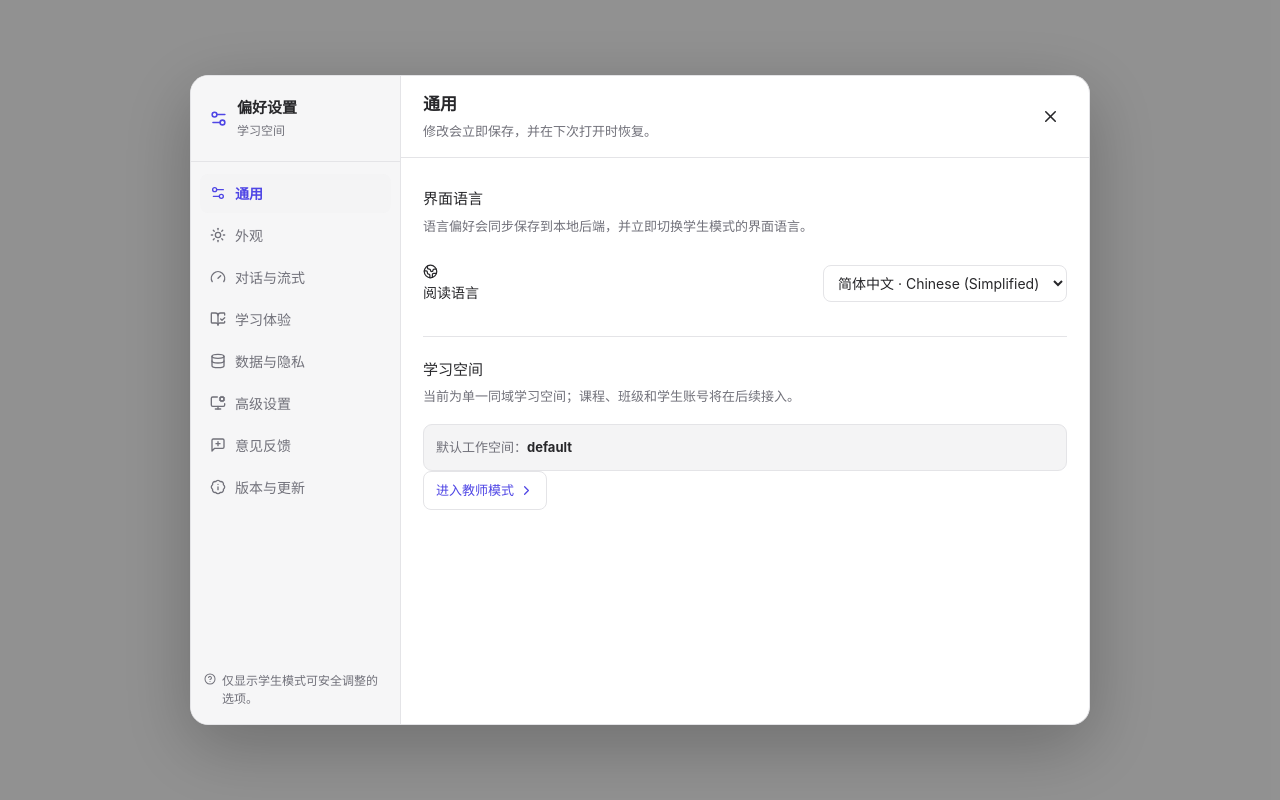
Test: SettingsDialog › persists submitted feedback before reporting success
Click the button "意见反馈" at [296, 445], box [200,426,391,464]
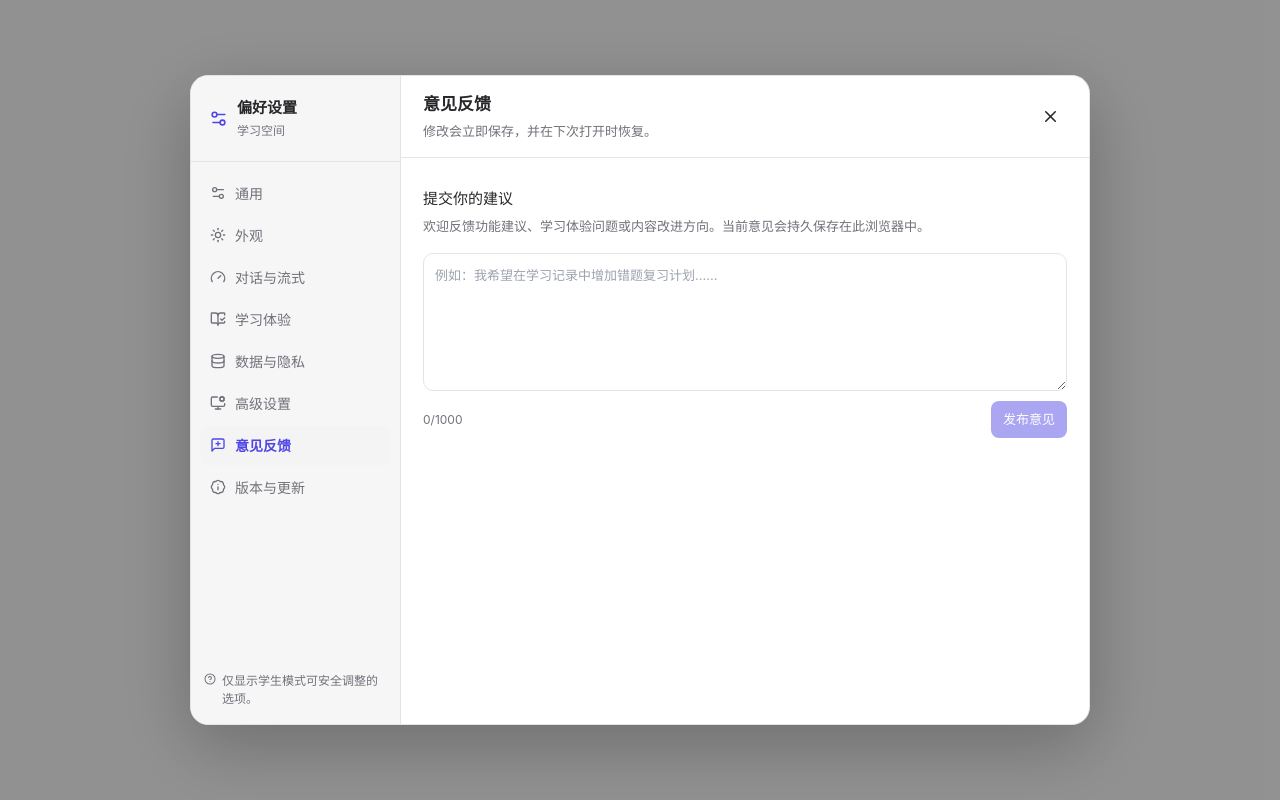
Type "请增加错题计划" into the text box with placeholder "例如：我希望在学习记录中增加错题复习计划……" at [745, 322], box [423,253,1067,391]
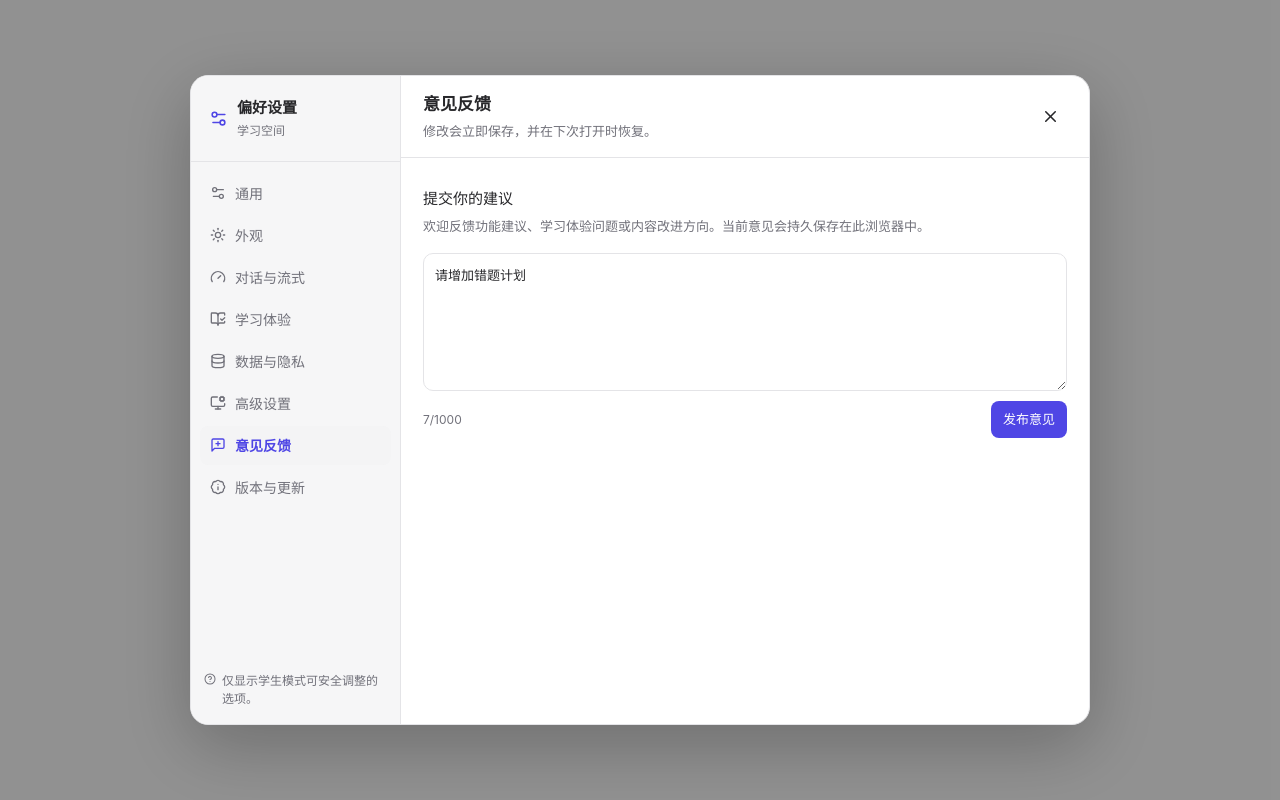
Click the button "发布意见" at [1029, 420], box [991,401,1067,438]
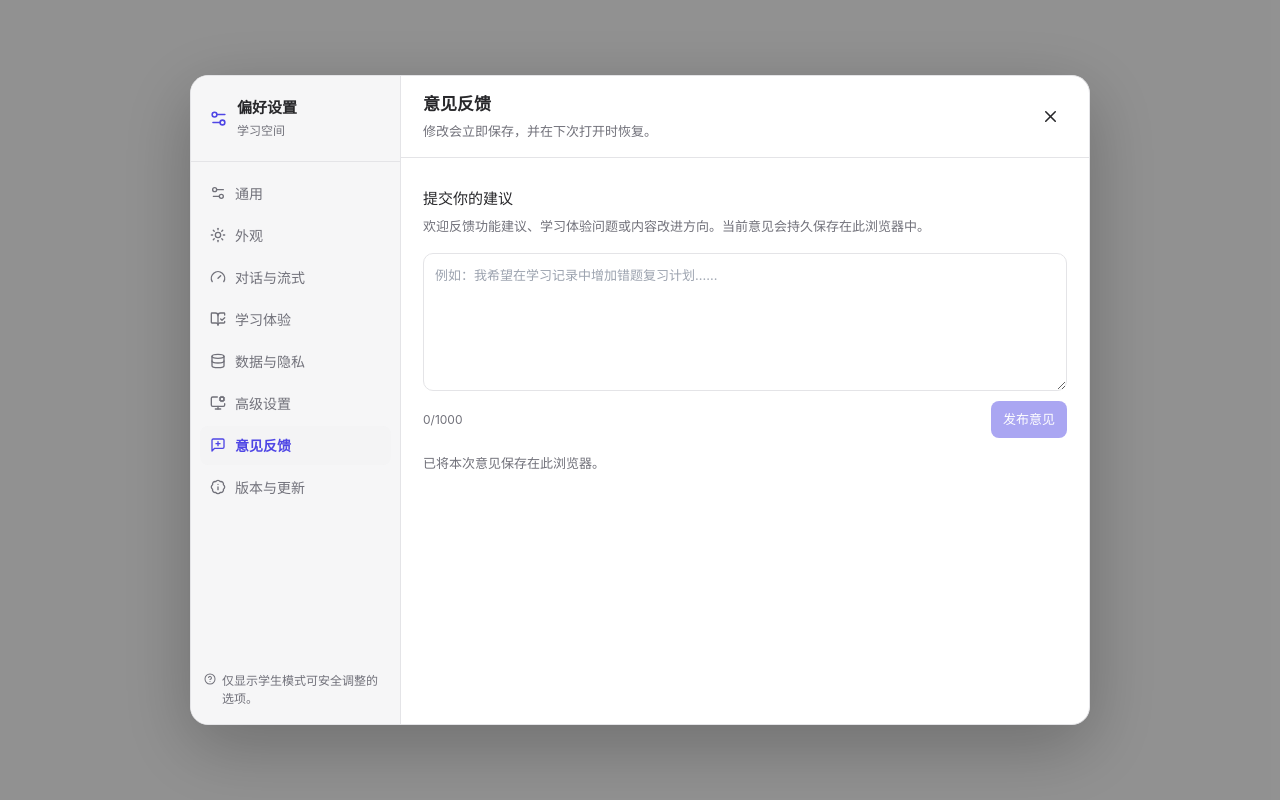
Expected: the text "已将本次意见保存在此浏览器。" is shown, [423,455,605,471]
